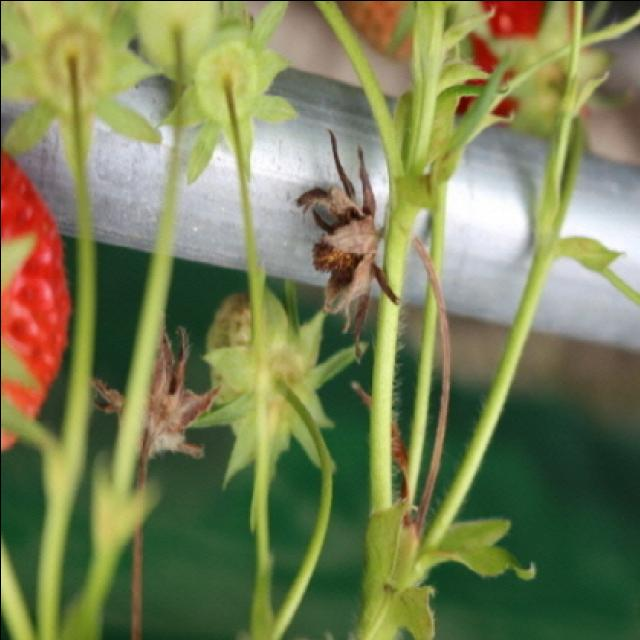Gray Mold: (294, 127, 401, 358), (90, 322, 220, 487)
